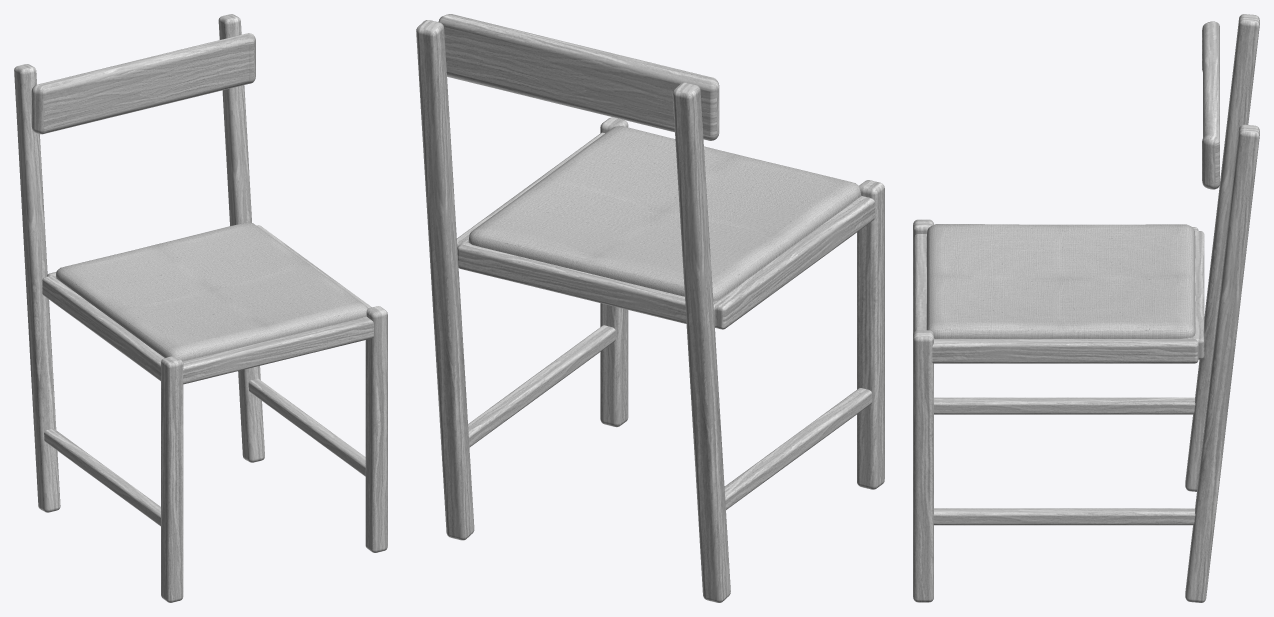
Rendered from dining-chair.gltf.
The picture shows the model from 3 angles, left to right: view 1: azimuth 30°, elevation 25°; view 2: azimuth 150°, elevation 25°; view 3: azimuth 270°, elevation 25°; orthographic projection. The views are drawn at different scales.
Visible parts, largest first — view 1: dining-chair; view 2: dining-chair; view 3: dining-chair.
Boxes of the visible parts, box(x1,y1,x2,y2) form: dining-chair: box(14, 14, 387, 602); dining-chair: box(416, 14, 884, 602); dining-chair: box(913, 14, 1259, 602).
Bounding box in the file's own units: 0.4349 × 0.7973 × 0.5297.
2 materials, 2 textured.
